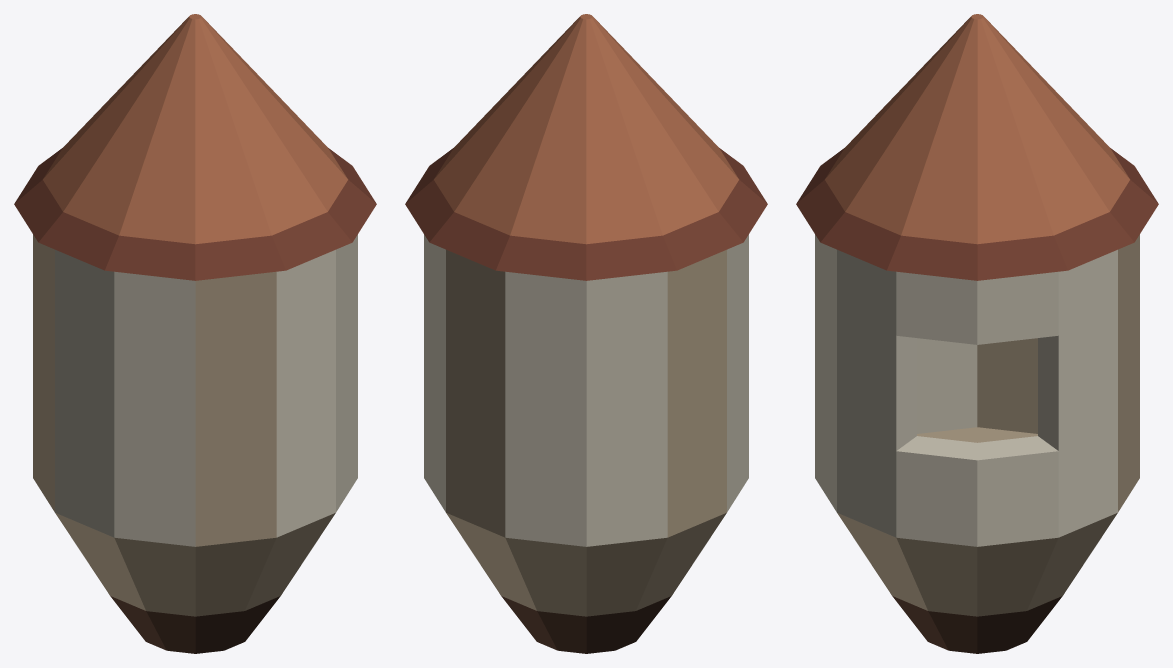
The model's file is Bartizan__Round.fbx.
3 renders of one model, left to right at view 1: azimuth 30°, elevation 25°; view 2: azimuth 150°, elevation 25°; view 3: azimuth 270°, elevation 25°, orthographic.
Parts seen in each view (by area): view 1: Bartizan__Round; view 2: Bartizan__Round; view 3: Bartizan__Round.
Part boxes in pixels (bbox=[...]): Bartizan__Round: bbox=[14, 14, 376, 653]; Bartizan__Round: bbox=[405, 14, 767, 653]; Bartizan__Round: bbox=[796, 14, 1158, 653].
Size of the model in its own units: 228 by 425 by 228.
Materials: 1 (1 with a texture image).
